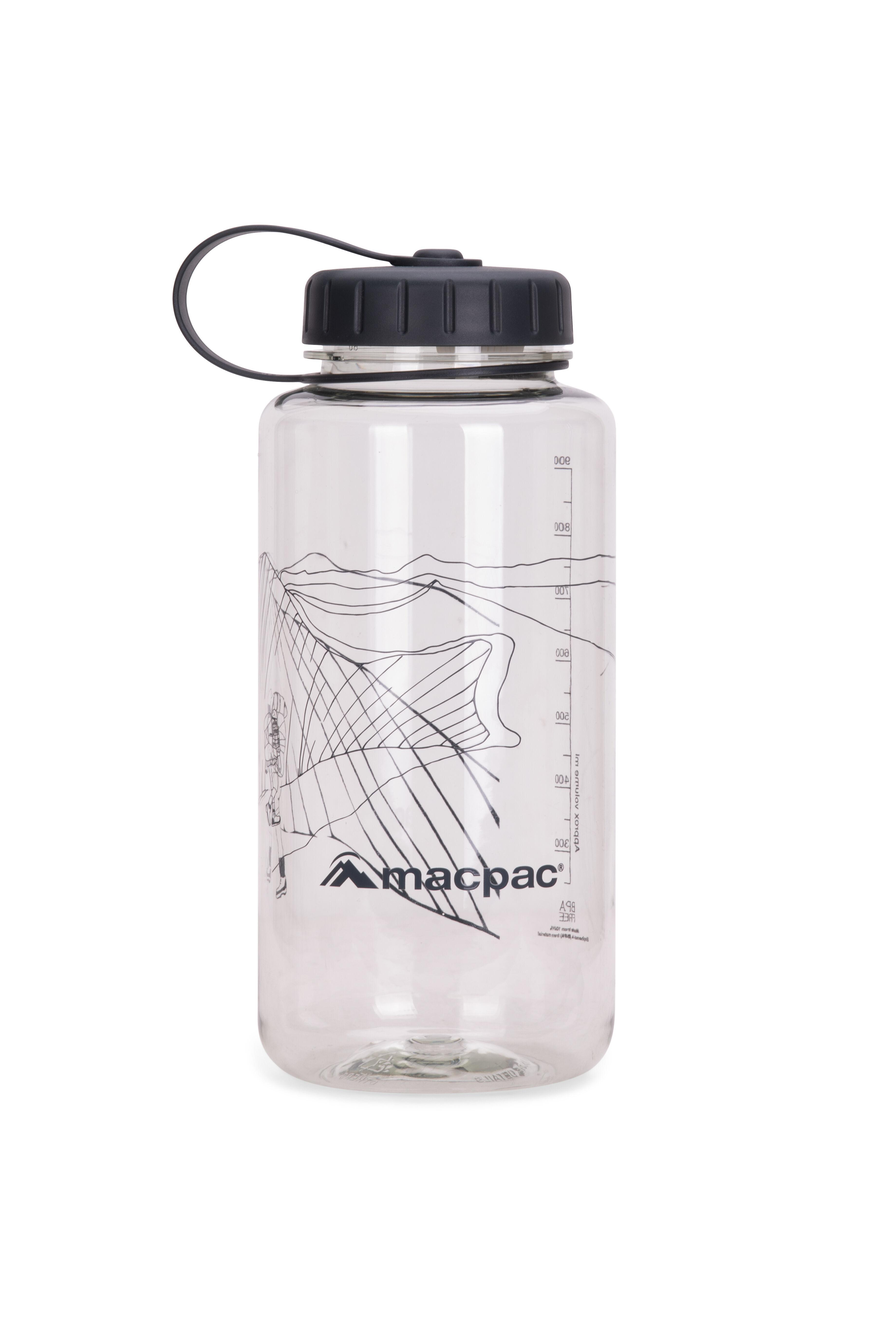gym bottle: (170, 223, 629, 1107)
